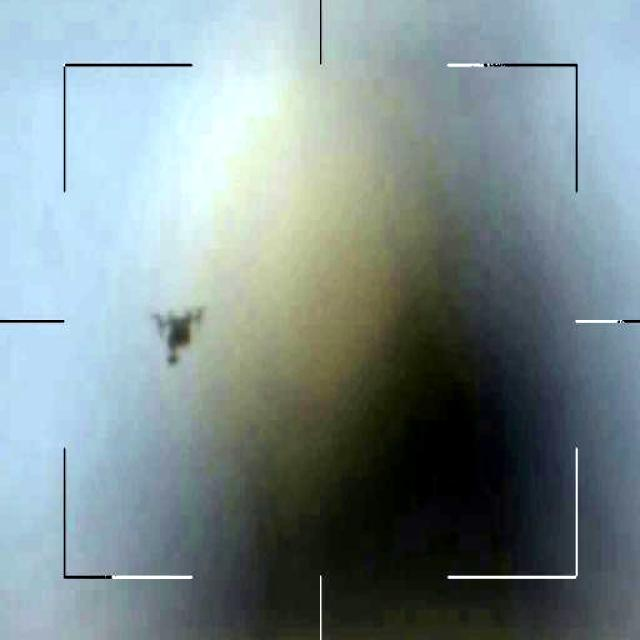bird: (146, 299, 211, 378)
